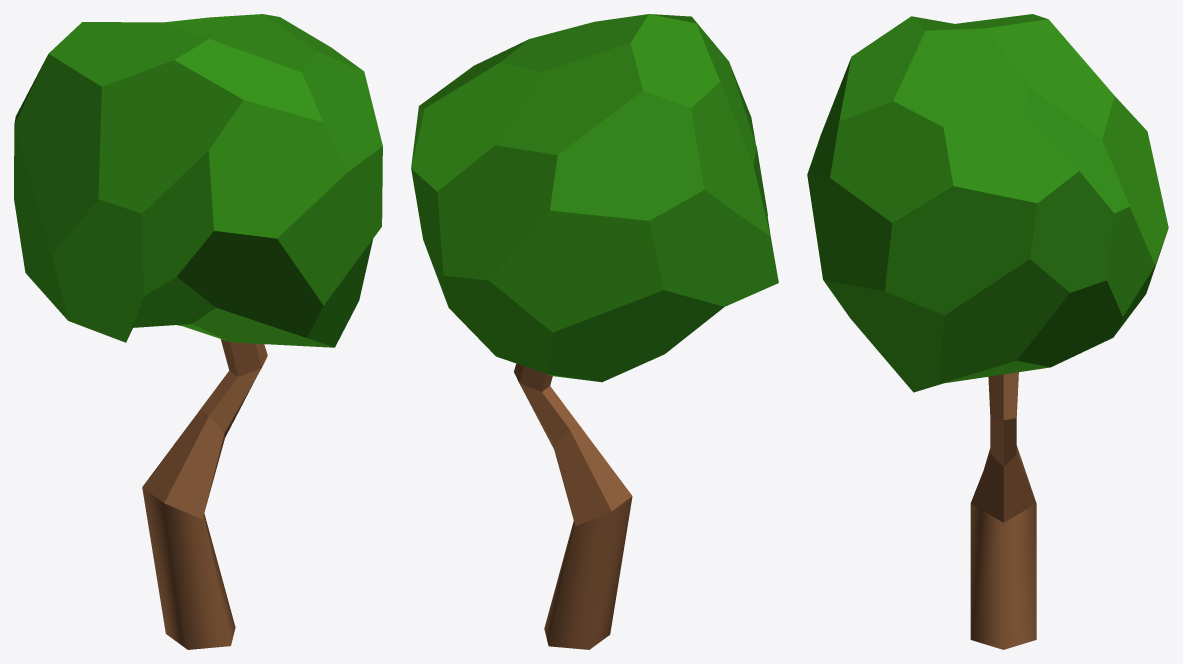
The model's file is low_poly_tree.glb.
3 renders of one model, left to right at view 1: azimuth 30°, elevation 25°; view 2: azimuth 150°, elevation 25°; view 3: azimuth 270°, elevation 25°, orthographic. The views are drawn at different scales.
Visible parts, largest first — view 1: Tree low; view 2: Tree low; view 3: Tree low.
Part boxes in pixels (<box>): Tree low: <box>14,14,382,649</box>; Tree low: <box>411,14,778,649</box>; Tree low: <box>807,14,1168,649</box>.
Size of the model in its own units: 65.79 by 121 by 67.59.
